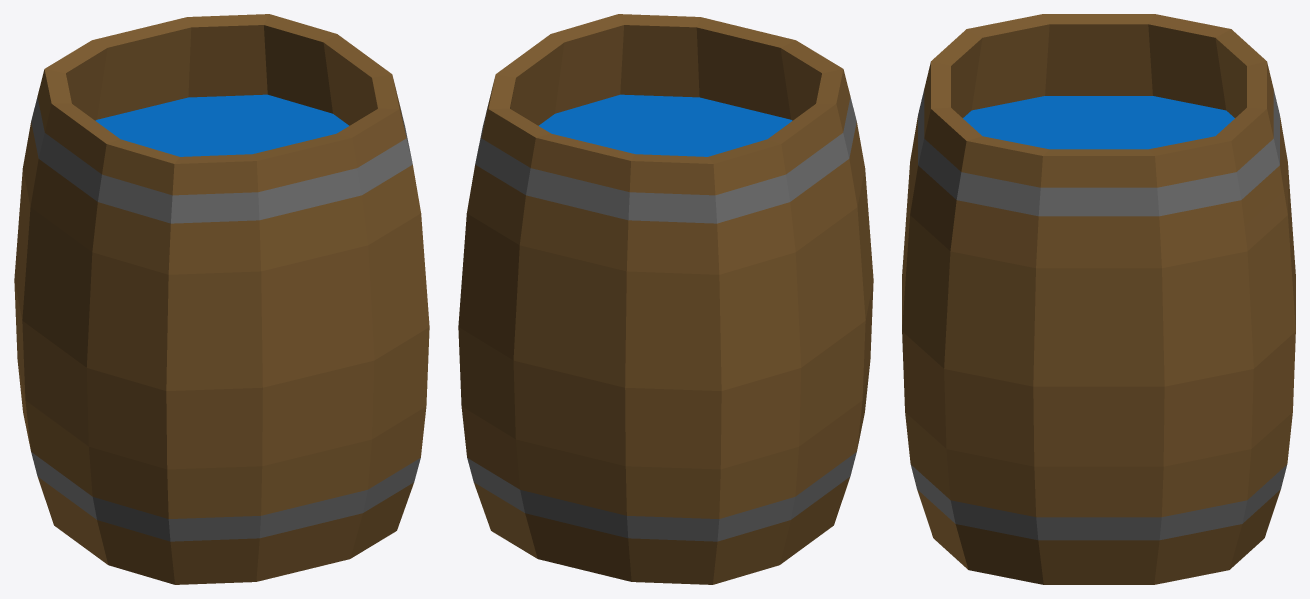
The model's file is barral.fbx.
3 renders of one model, left to right at view 1: azimuth 30°, elevation 25°; view 2: azimuth 150°, elevation 25°; view 3: azimuth 270°, elevation 25°, orthographic.
Parts seen in each view (by area): view 1: Plane; view 2: Plane; view 3: Plane.
Part boxes in pixels (x1,y1,x2,y2): Plane: [14, 14, 429, 584]; Plane: [458, 14, 873, 584]; Plane: [902, 14, 1295, 584].
Bounding box in the file's own units: 101 × 122 × 101.
